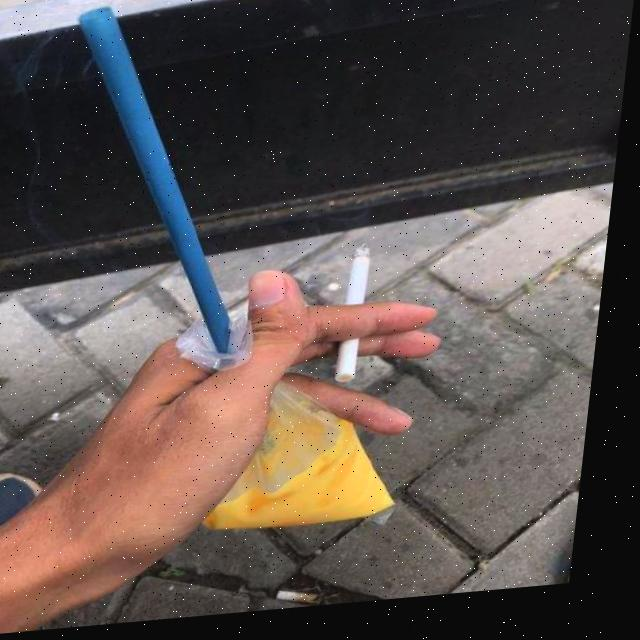cigarette: (343, 249, 380, 392)
